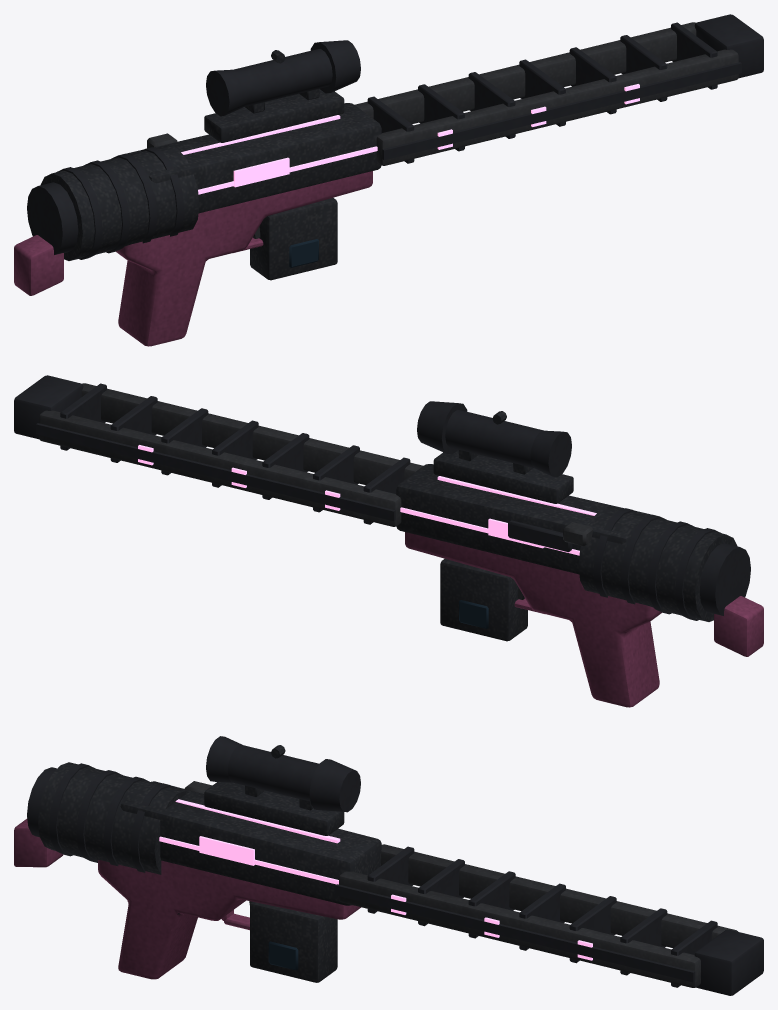
The model's file is railgun_r5.fbx.
3 renders of one model, top to bottom at view 1: azimuth 30°, elevation 25°; view 2: azimuth 150°, elevation 25°; view 3: azimuth 330°, elevation 25°, orthographic.
Visible parts, largest first — view 1: Body, Magazine, Glow; view 2: Body, Magazine, Glow, Bolt; view 3: Body, Magazine, Glow.
Part boxes in pixels (bbox=[...]): Body: bbox=[14, 14, 763, 346]; Magazine: bbox=[250, 198, 337, 280]; Glow: bbox=[181, 84, 639, 194]; Body: bbox=[14, 375, 763, 707]; Magazine: bbox=[440, 559, 527, 641]; Glow: bbox=[138, 445, 596, 555]; Bolt: bbox=[508, 520, 593, 552]; Body: bbox=[14, 736, 763, 995]; Magazine: bbox=[250, 901, 337, 982]; Glow: bbox=[159, 799, 592, 960].
Bounding box in the file's own units: 9.35 × 3.08 × 1.08.
2 materials, 1 textured.
